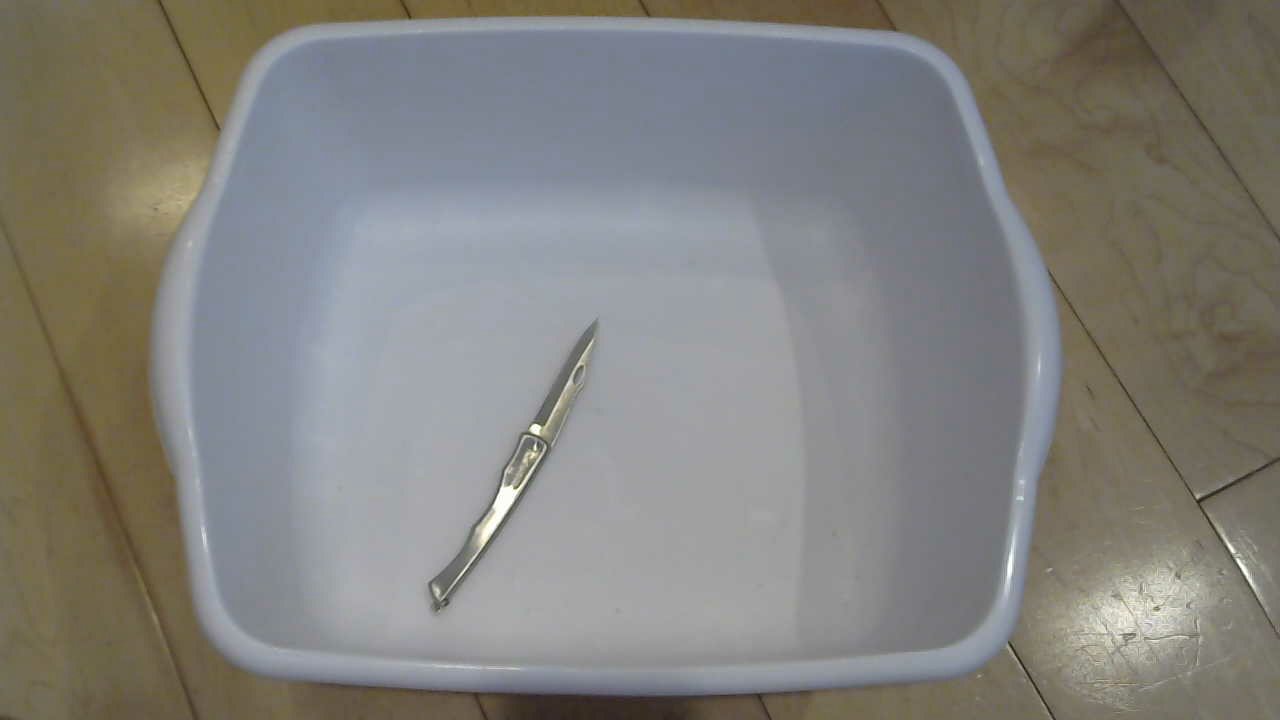knife: (426, 316, 611, 626)
